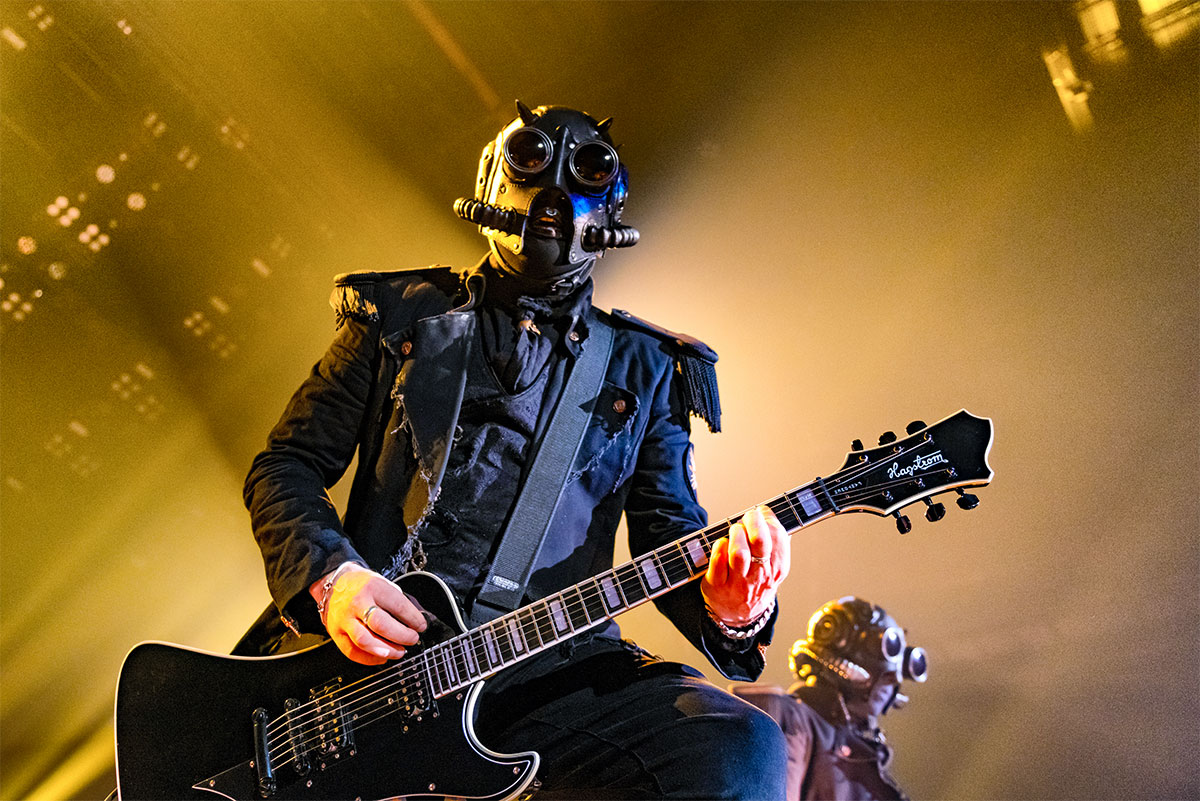acousticguitar: (109, 408, 995, 800)
